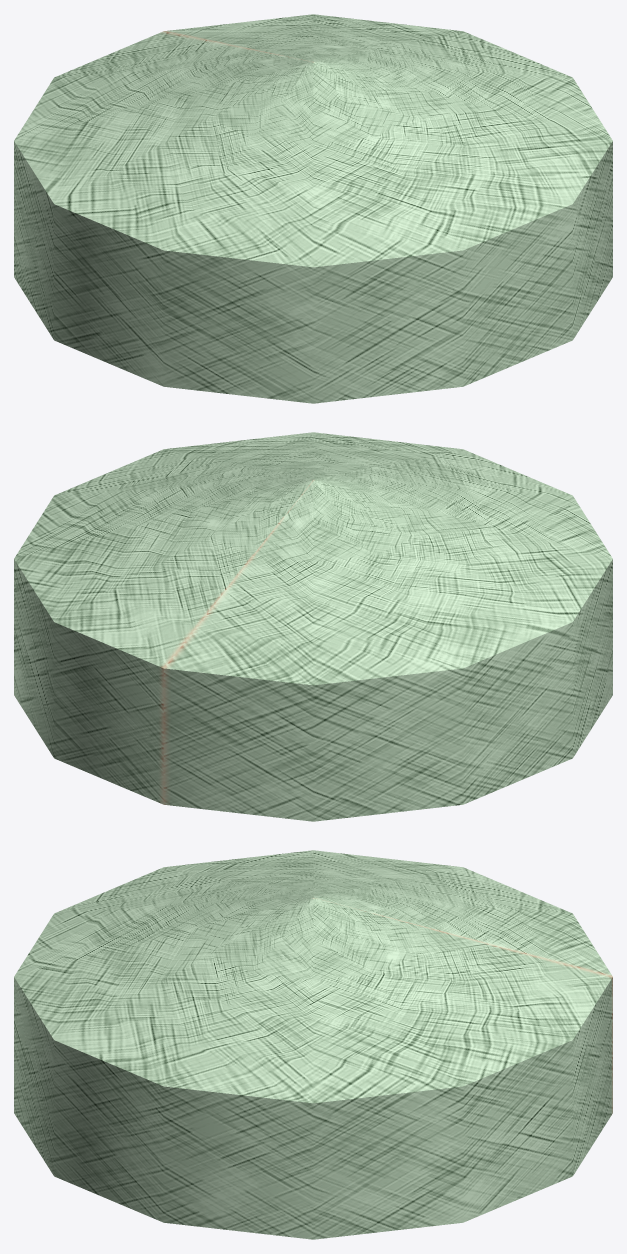
File: spindle.FBX
3 views of the same model, one above another, from view 1: azimuth 30°, elevation 25°; view 2: azimuth 150°, elevation 25°; view 3: azimuth 270°, elevation 25° (orthographic).
Visible parts, largest first — view 1: Spindle001; view 2: Spindle001; view 3: Spindle001.
Part boxes in pixels (<box>): Spindle001: <box>14,14,612,403</box>; Spindle001: <box>14,432,612,821</box>; Spindle001: <box>14,850,612,1239</box>.
Size of the model in its own units: 148 by 80.2 by 148.
Materials: 1 (1 with a texture image).
